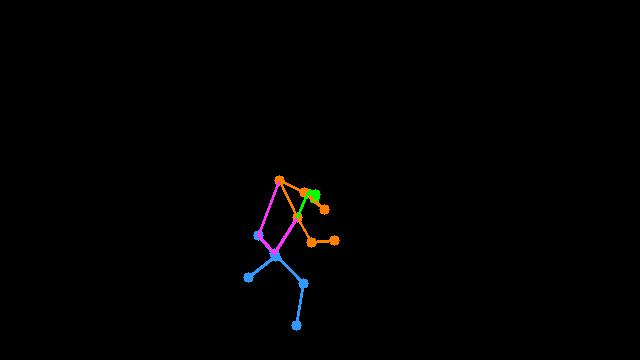normal: (221, 164, 343, 341)
